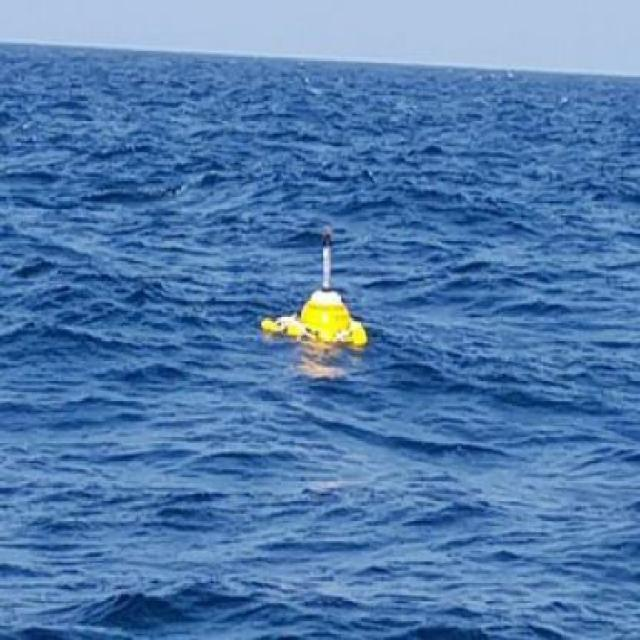buoy: (257, 223, 376, 385)
